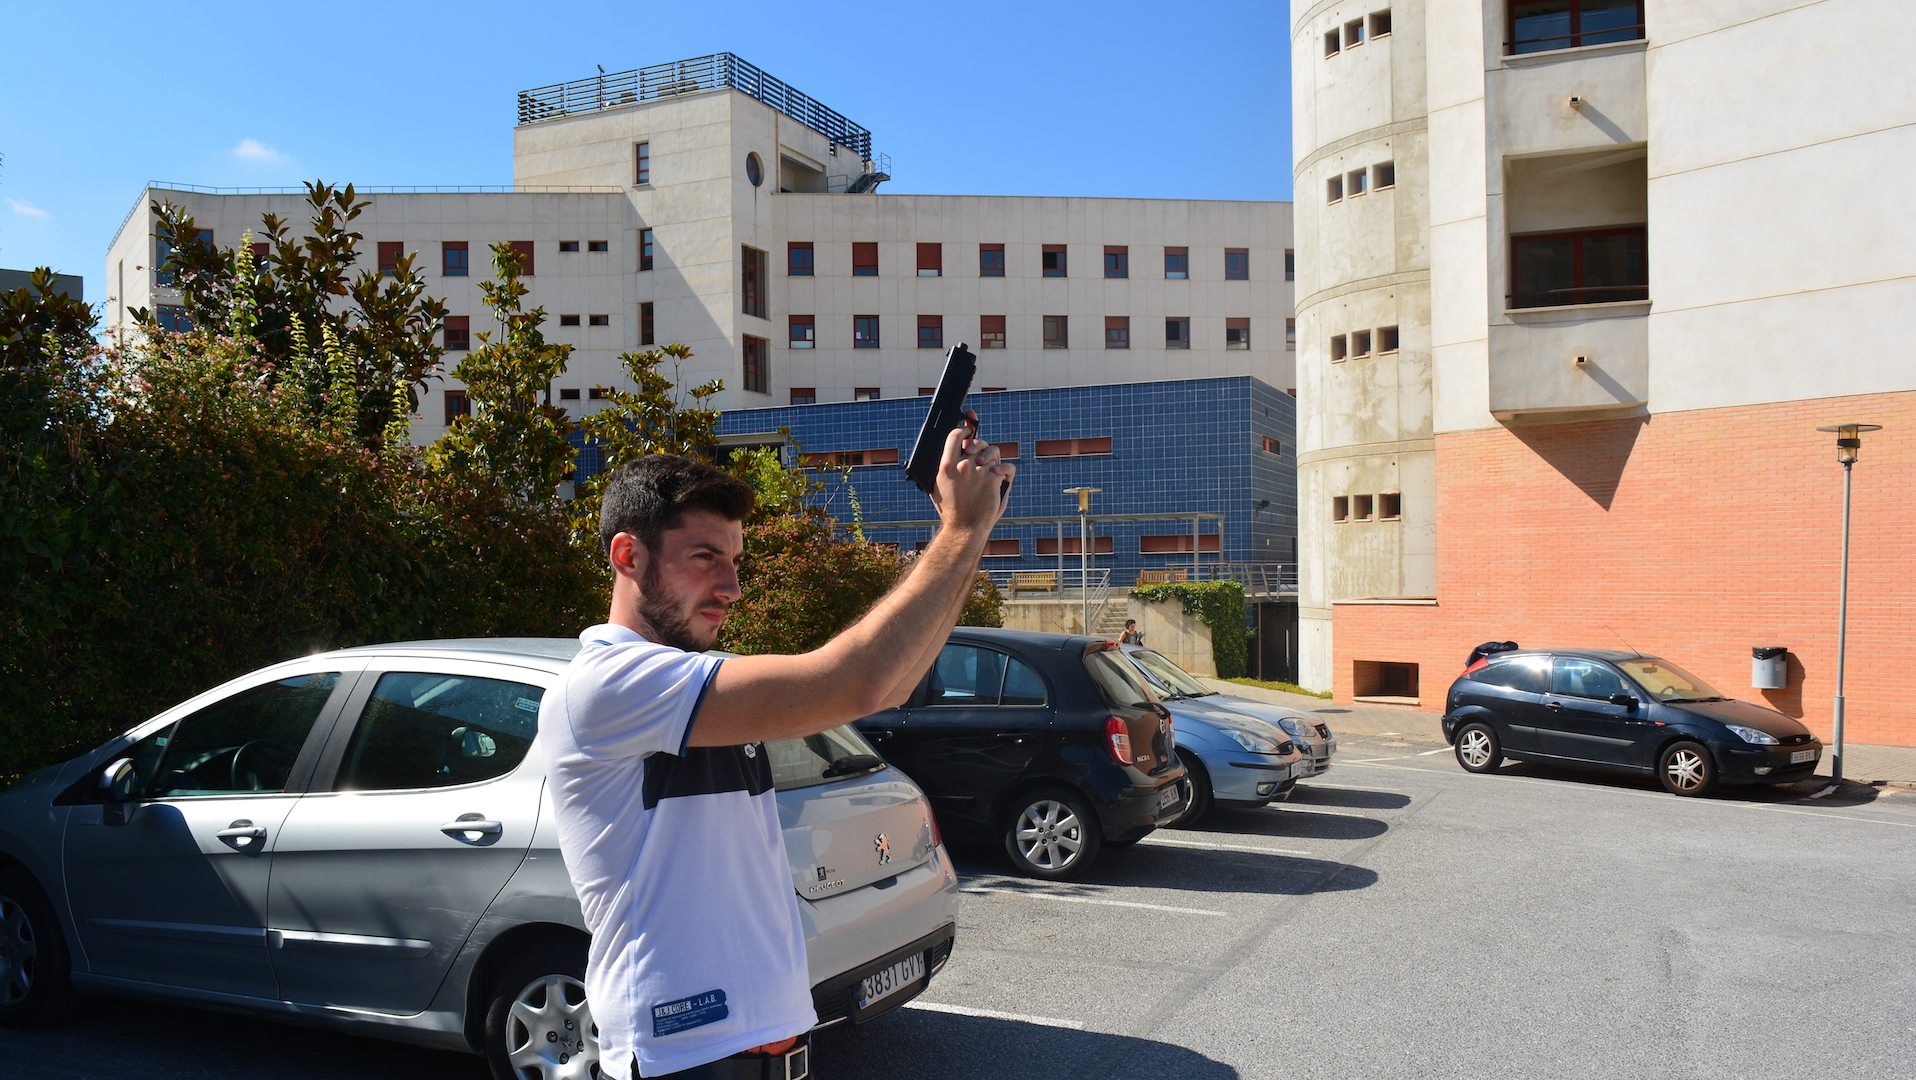pistol: (903, 341, 1012, 506)
